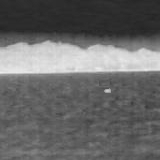Target: (104, 88, 113, 94)
